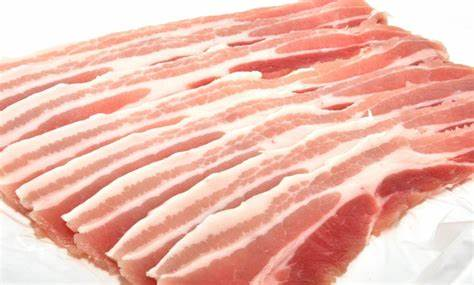Bacon: (3, 3, 473, 285), (0, 46, 468, 224)
